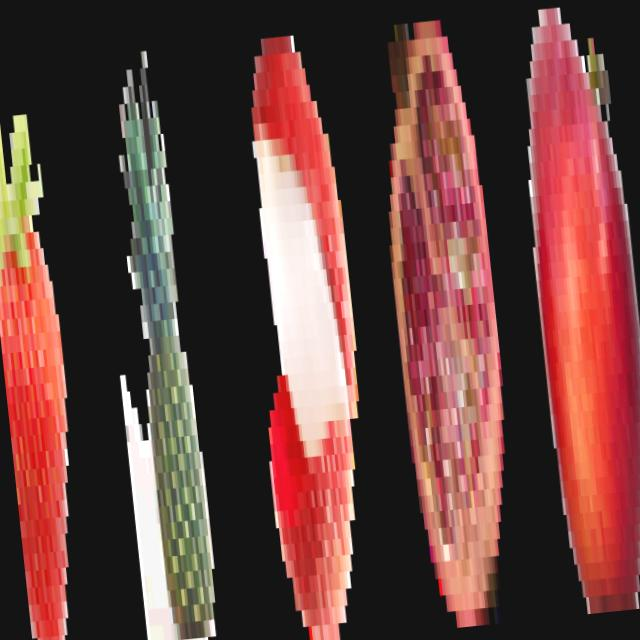apple: (506, 0, 640, 615)
lychee: (217, 14, 392, 640)
pineapples: (90, 14, 236, 640)
pomegranate: (357, 0, 533, 631)
strawberry: (0, 28, 104, 640)
